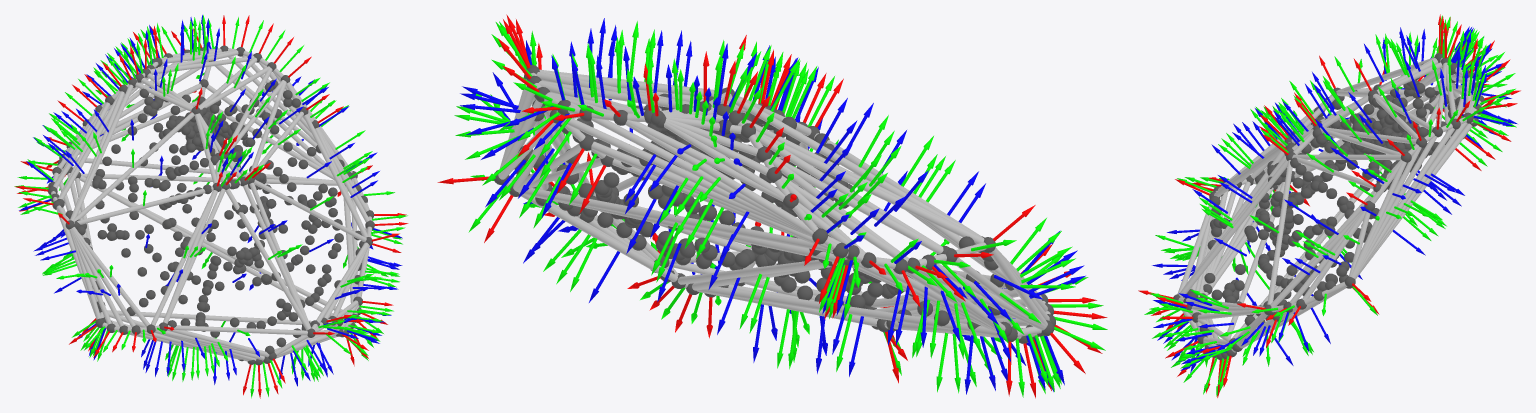
Rendered from cassie_hat.gltf.
The picture shows the model from 3 angles, left to right: view 1: azimuth 30°, elevation 25°; view 2: azimuth 150°, elevation 25°; view 3: azimuth 270°, elevation 25°; orthographic projection. The views are drawn at different scales.
Bounding box in the file's own units: 0.8395 × 0.6325 × 0.696.
